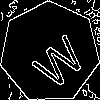W: (24, 27, 89, 92)
